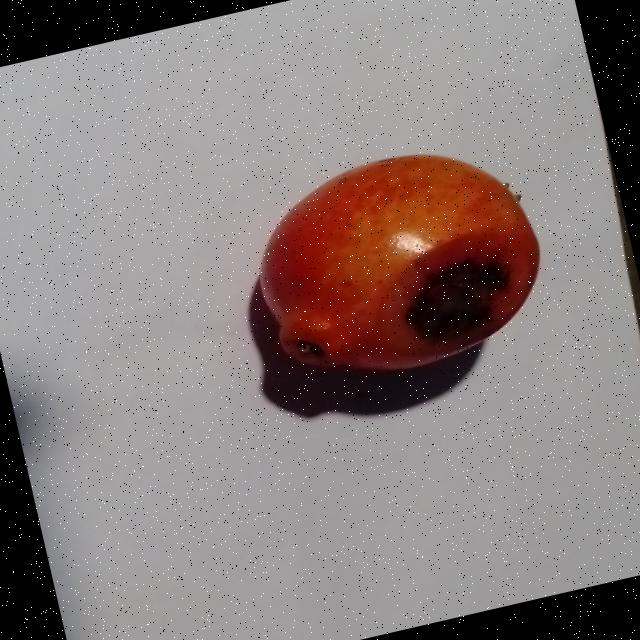Rotten: (235, 128, 558, 394)
